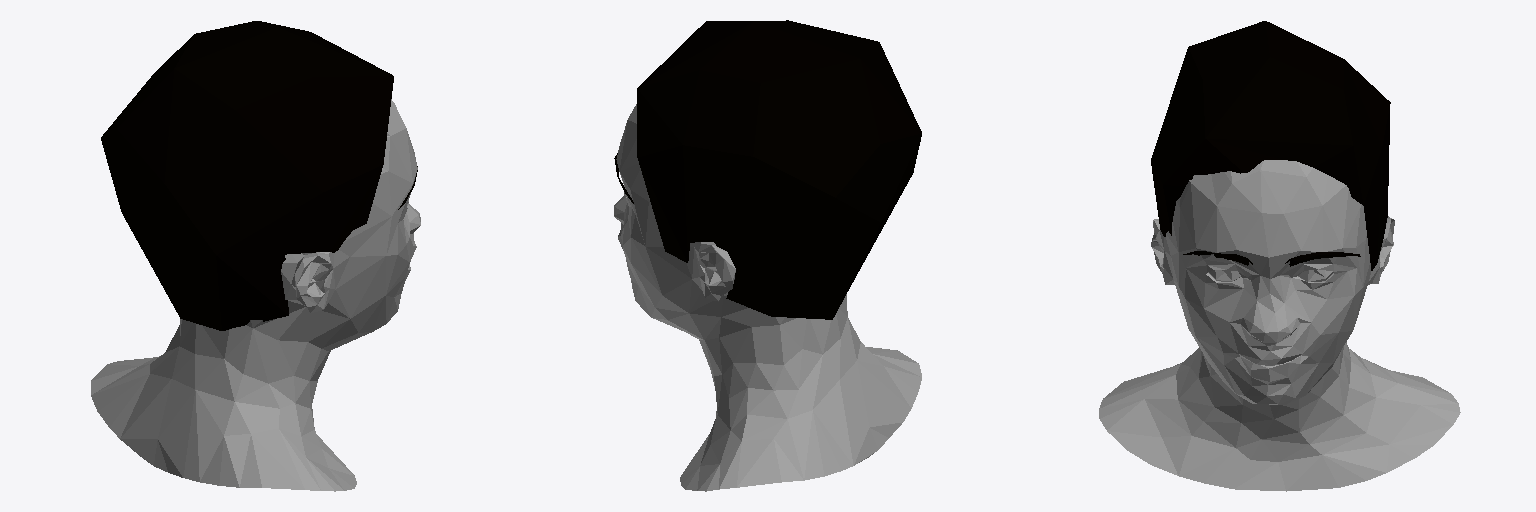
URDF robot description (face_0):
<robot name="face_0">
  <link name="face_0">
    <visual>
        <geometry>
            <mesh filename="package://playground_builder/meshes/child-face.dae"/>
        </geometry>

    </visual>
  </link>
</robot>

--- Render facts (derived) ---
The picture shows the robot from 3 angles, left to right: view 1: azimuth 30°, elevation 25°; view 2: azimuth 150°, elevation 25°; view 3: azimuth 270°, elevation 25°; orthographic projection.
Robot: face_0 — 1 links, 0 joints (none); root link face_0; default pose: every joint at zero.
Visible links, largest first — view 1: face_0; view 2: face_0; view 3: face_0.
Link boxes in pixels (x1=…): face_0: x1=91, y1=21, x2=420, y2=491; face_0: x1=614, y1=20, x2=921, y2=491; face_0: x1=1099, y1=21, x2=1460, y2=491.
Size in the robot's own frame: 0.2098 by 0.2398 by 0.3058 metres.
Meshes: 1 distinct files referenced, 1 mesh visuals loaded (1 Collada DAE).